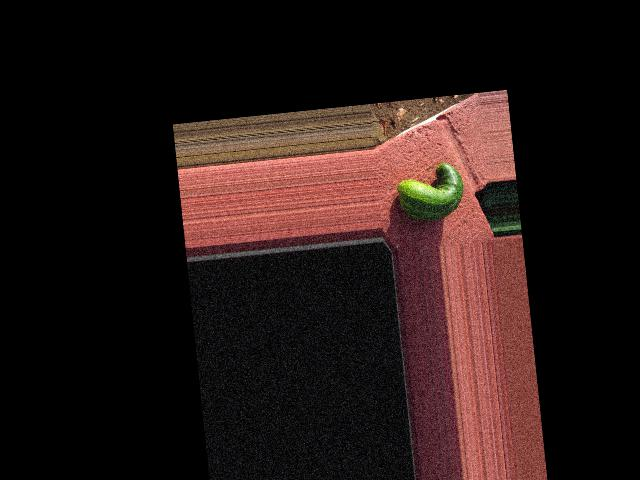cucumber: (395, 160, 466, 223)
